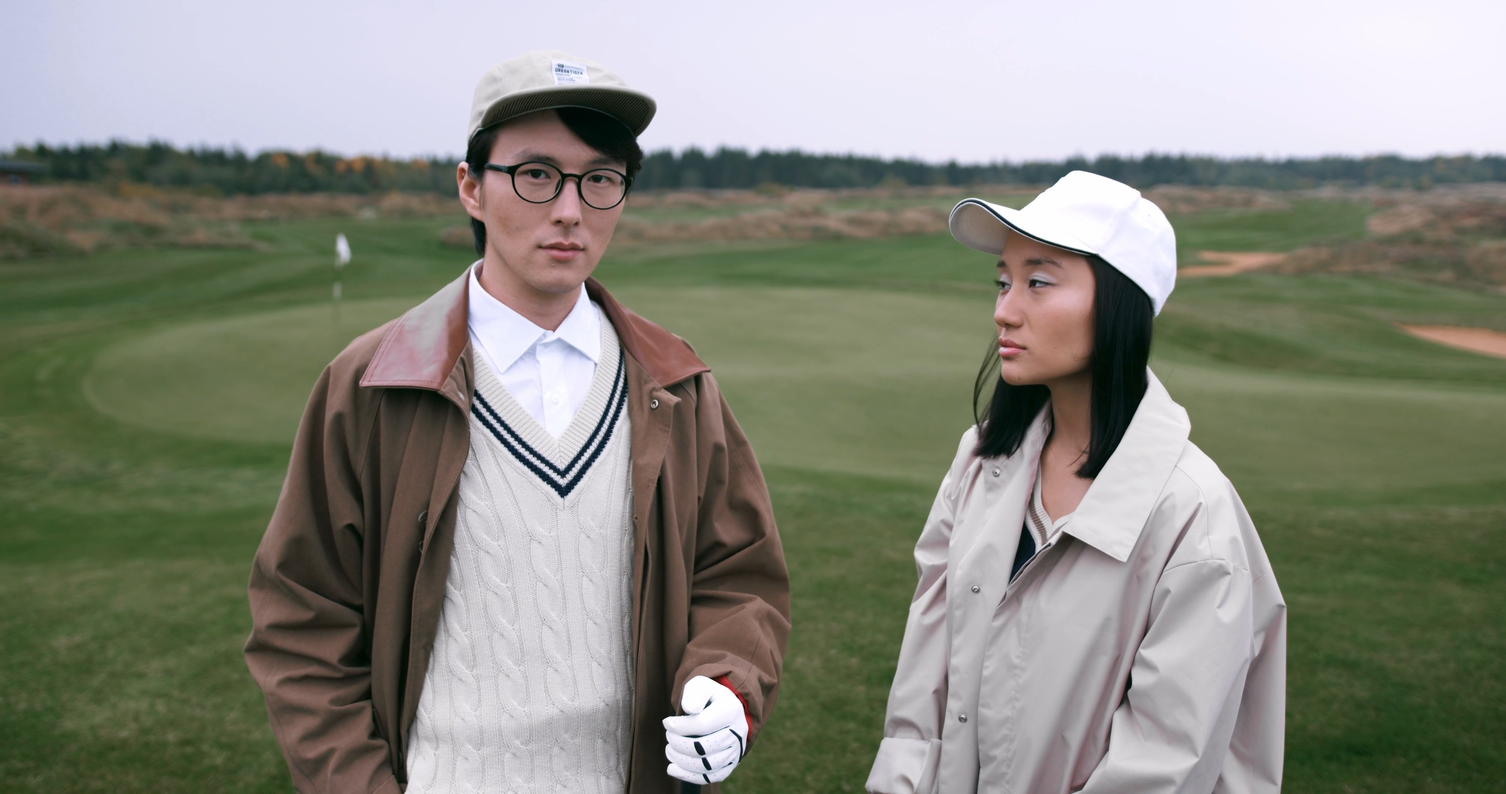gloves: (651, 662, 795, 790)
